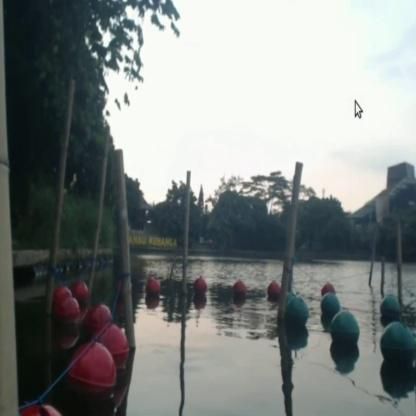green_buoy: (380, 323, 415, 371), (329, 312, 358, 354), (283, 297, 312, 335), (318, 296, 338, 326), (378, 292, 398, 319)
red_buoy: (68, 349, 111, 402), (99, 328, 132, 378), (59, 303, 80, 330), (74, 279, 92, 305), (144, 280, 158, 303), (231, 280, 245, 301), (194, 278, 206, 302), (267, 278, 280, 300), (54, 288, 73, 301)
